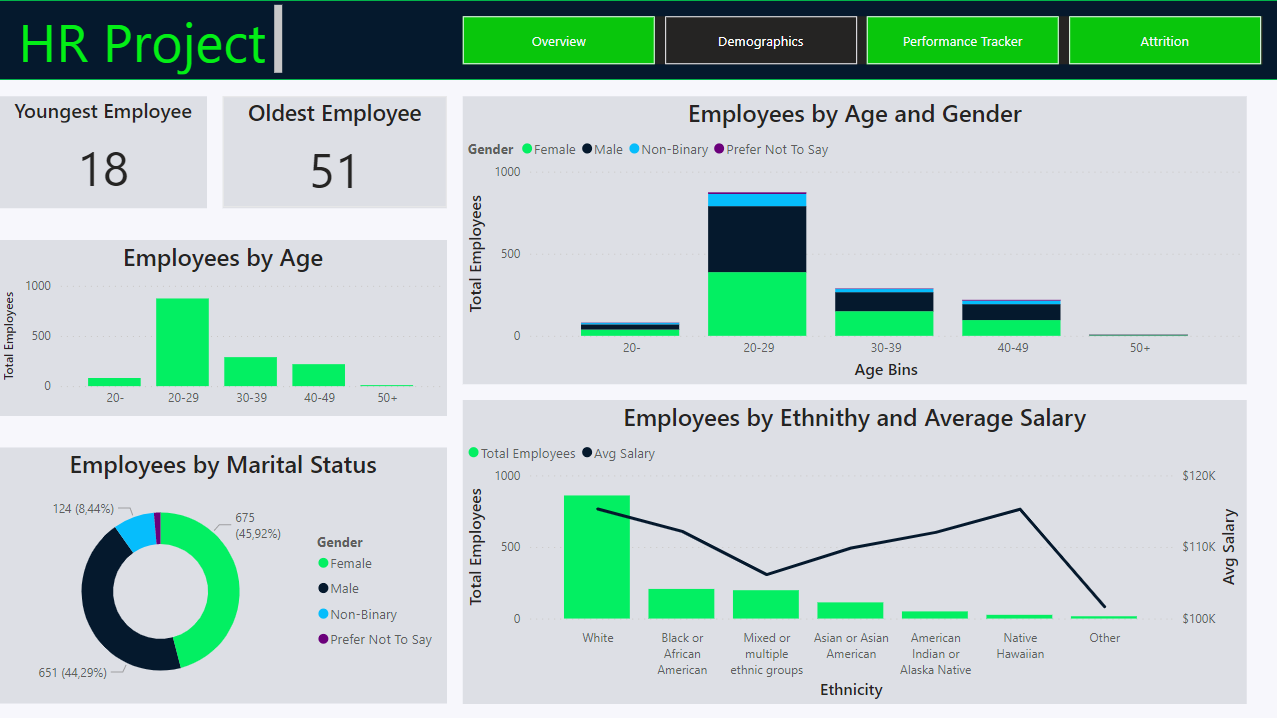

Layout of this report page (visuals, bound fields, positions):
{"tool":"powerbi","page":{"name":"Demographics","canvas":[1280,720],"ordinal":1},"visuals":[{"type":"shape","box":[0,0.3,1280,79.7],"z":0,"group":"g1"},{"type":"card","title":"Youngest Employee","fields":{"Values":["Min(DimEmployee.Age)"]},"box":[0,96,208,112],"z":0},{"type":"textbox","box":[0,0,288,79.7],"z":1000,"group":"g1"},{"type":"card","title":"Oldest Employee","fields":{"Values":["Max(DimEmployee.Age)"]},"box":[224,96,224,112],"z":1000},{"type":"columnChart","title":"Employees by Age","fields":{"Category":["DimEmployee.Age Bins"],"Y":["_Measures.Total Employees"]},"box":[0,240,448,176],"z":2000},{"type":"columnChart","title":"Employees by Age and Gender","fields":{"Category":["DimEmployee.Age Bins"],"Y":["_Measures.Total Employees"],"Series":["DimEmployee.Gender"]},"box":[464,96,784,288],"z":3000},{"type":"group","id":"g1","title":"Group 1","box":[0,0,1280,80],"z":4000,"group":"g2"},{"type":"lineStackedColumnComboChart","title":"Employees by Ethnithy and Average Salary","fields":{"Category":["DimEmployee.Ethnicity"],"Y":["_Measures.Total Employees"],"Y2":["_Measures.Avg Salary"]},"box":[464,400,784,304],"z":4000},{"type":"donutChart","title":"Employees by Marital Status","fields":{"Y":["_Measures.Total Employees"],"Category":["DimEmployee.Gender"]},"box":[0,448,448,256],"z":6000},{"type":"pageNavigator","box":[464,16,800,48],"z":7000,"group":"g2"},{"type":"group","id":"g2","title":"Group 2","box":[0,0,1280,80],"z":7001}]}

Visuals, with their boxes in screenshot pixels (x1, y1, x2, y2), scaled from the page's 1280x720 canvas onto the 1277x718 screenshot:
shape: BBox(0, 0, 1276, 80)
"Youngest Employee" card: BBox(0, 96, 208, 207)
textbox: BBox(0, 0, 287, 79)
"Oldest Employee" card: BBox(223, 96, 447, 207)
"Employees by Age" columnChart: BBox(0, 239, 447, 415)
"Employees by Age and Gender" columnChart: BBox(463, 96, 1245, 383)
"Group 1" group: BBox(0, 0, 1276, 80)
"Employees by Ethnithy and Average Salary" lineStackedColumnComboChart: BBox(463, 399, 1245, 702)
"Employees by Marital Status" donutChart: BBox(0, 447, 447, 702)
pageNavigator: BBox(463, 16, 1261, 64)
"Group 2" group: BBox(0, 0, 1276, 80)
